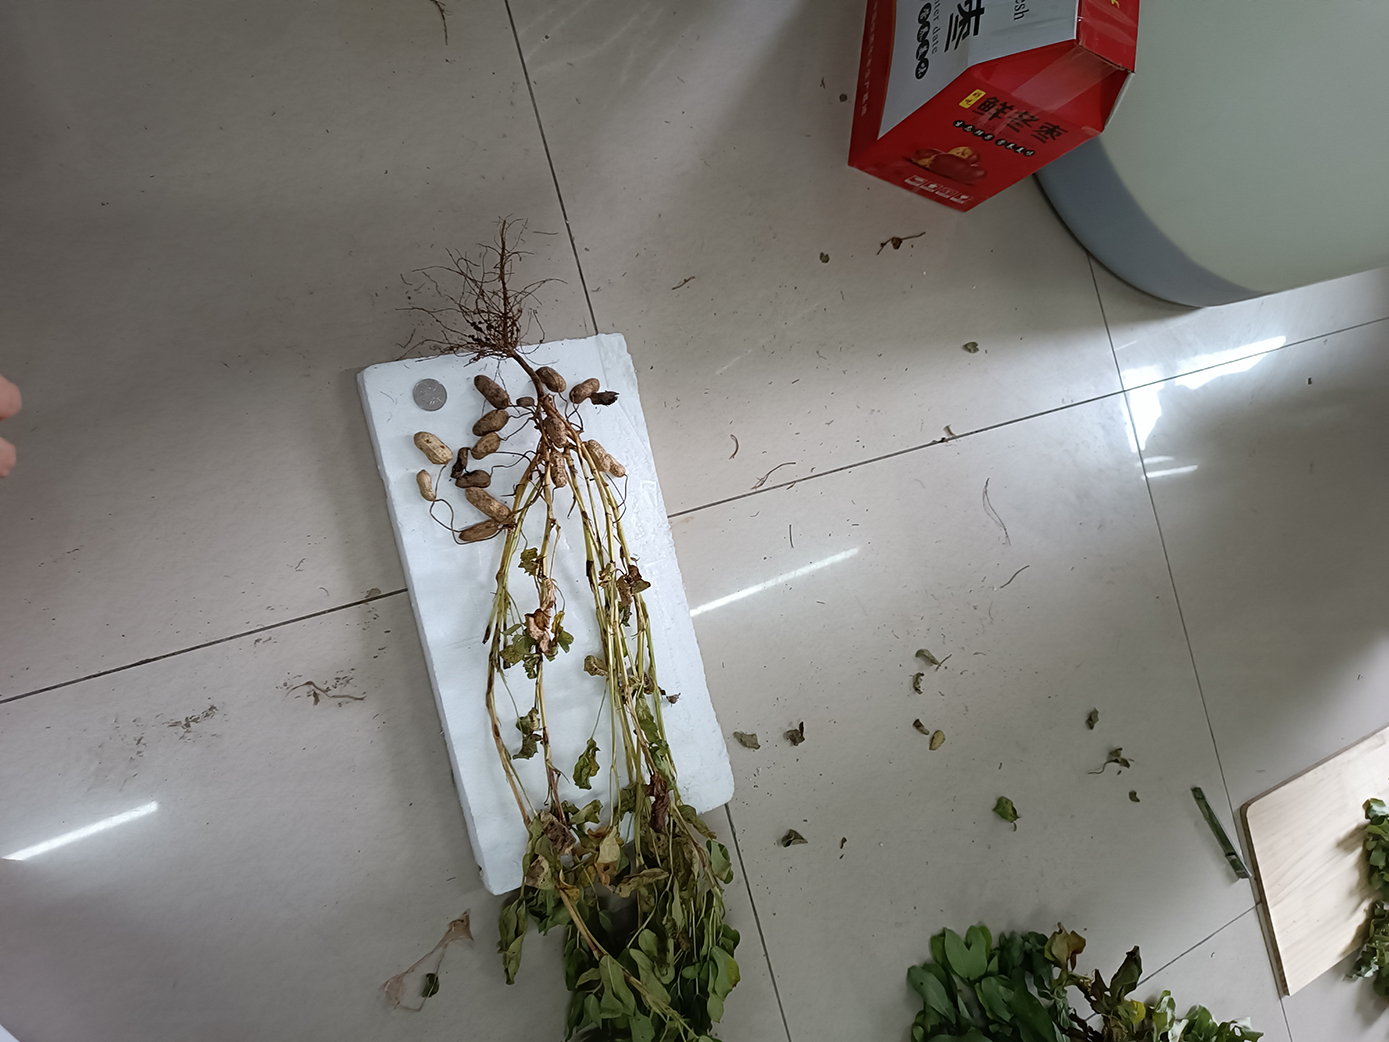h: (465, 486, 511, 524), (414, 431, 453, 465), (534, 366, 567, 393), (584, 439, 610, 473), (471, 432, 500, 459), (549, 449, 568, 488), (416, 468, 436, 502), (547, 417, 567, 448), (607, 453, 626, 478)
l: (474, 375, 509, 410), (472, 410, 510, 436), (459, 519, 499, 542), (569, 377, 600, 404), (455, 470, 491, 488), (450, 445, 470, 479), (590, 390, 620, 406), (516, 397, 536, 407)
